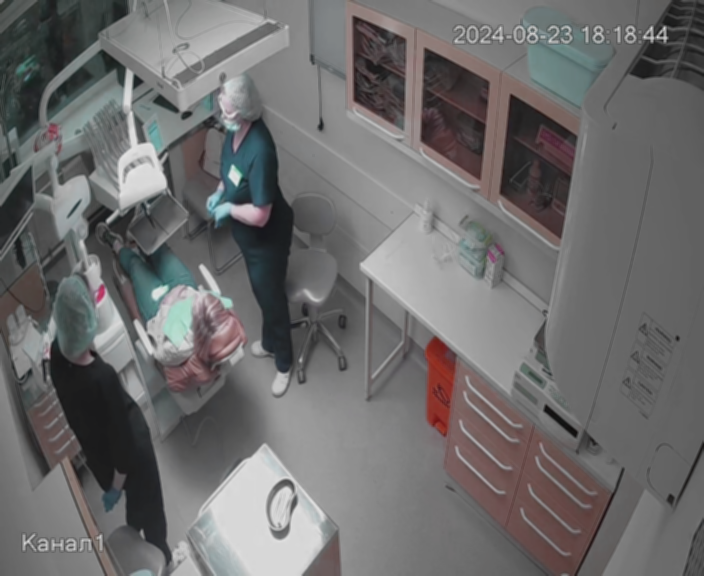Patient: (109, 241, 251, 410)
